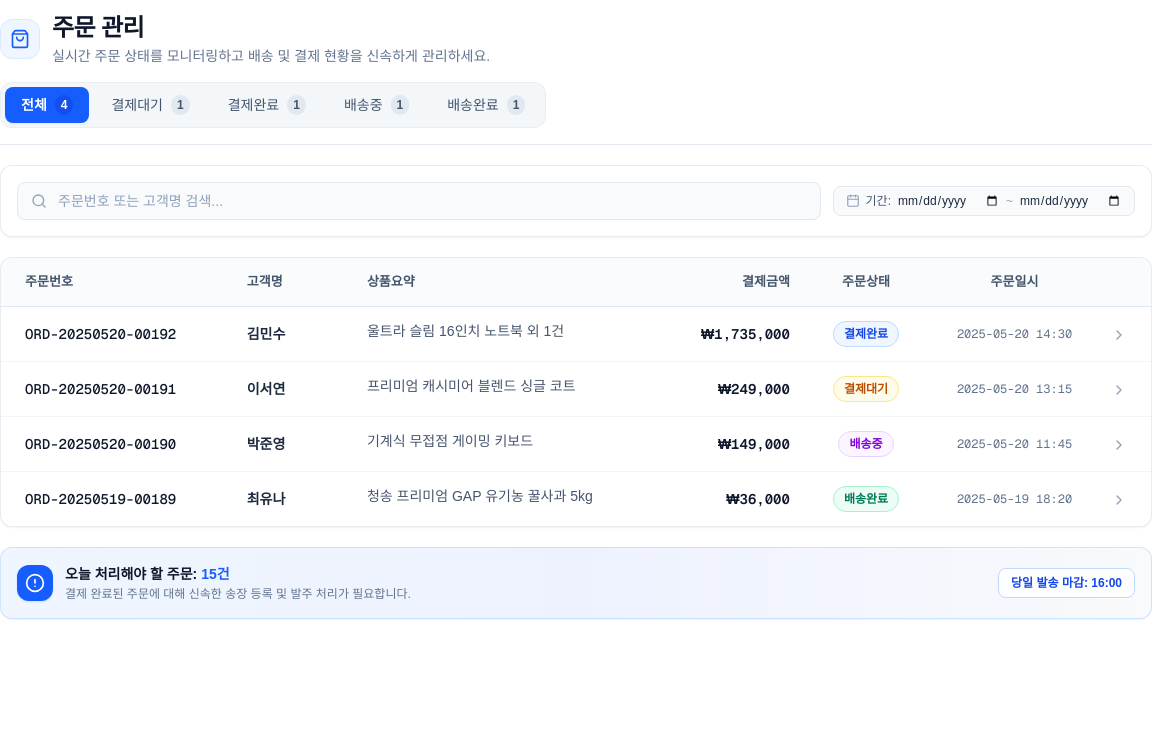
Test: OrderView Component (Integration Test) › 날짜 범위를 선택하여 해당 기간의 주문만 필터링할 수 있다
Type "2025-05-19" into the date field named "시작일" at [948, 201], box [897,193,1000,209]
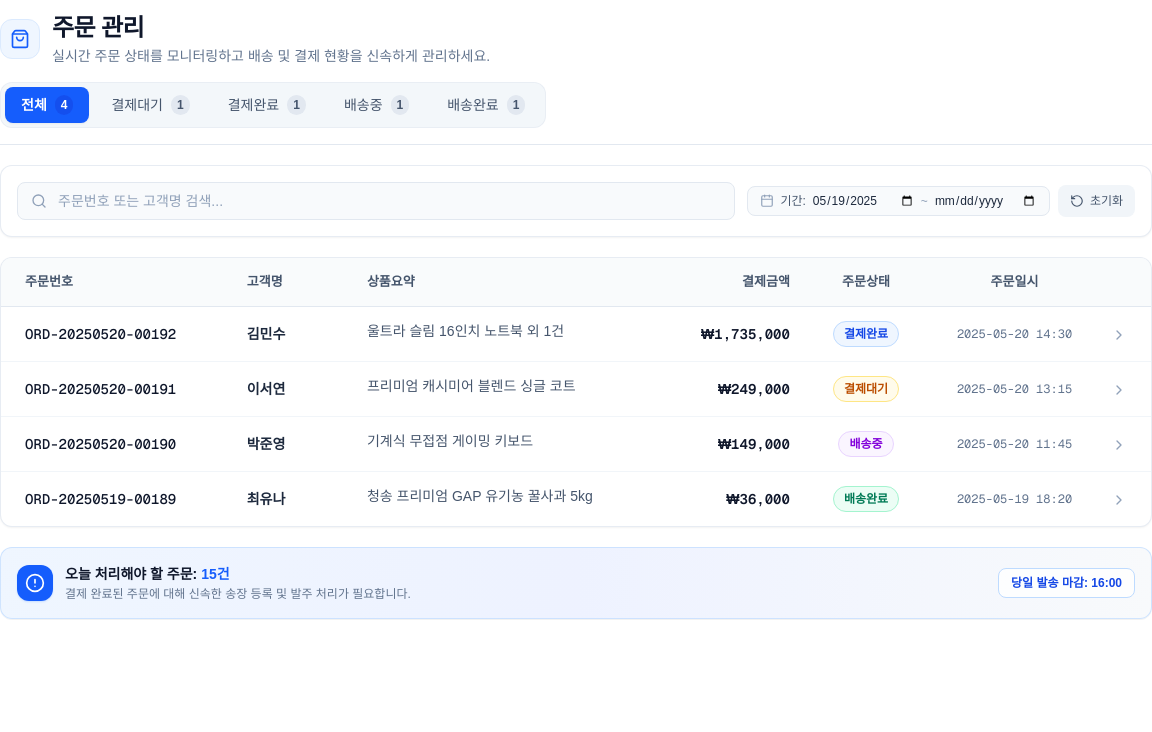
Type "2025-05-19" into the date field named "종료일" at [985, 201], box [934,193,1037,209]
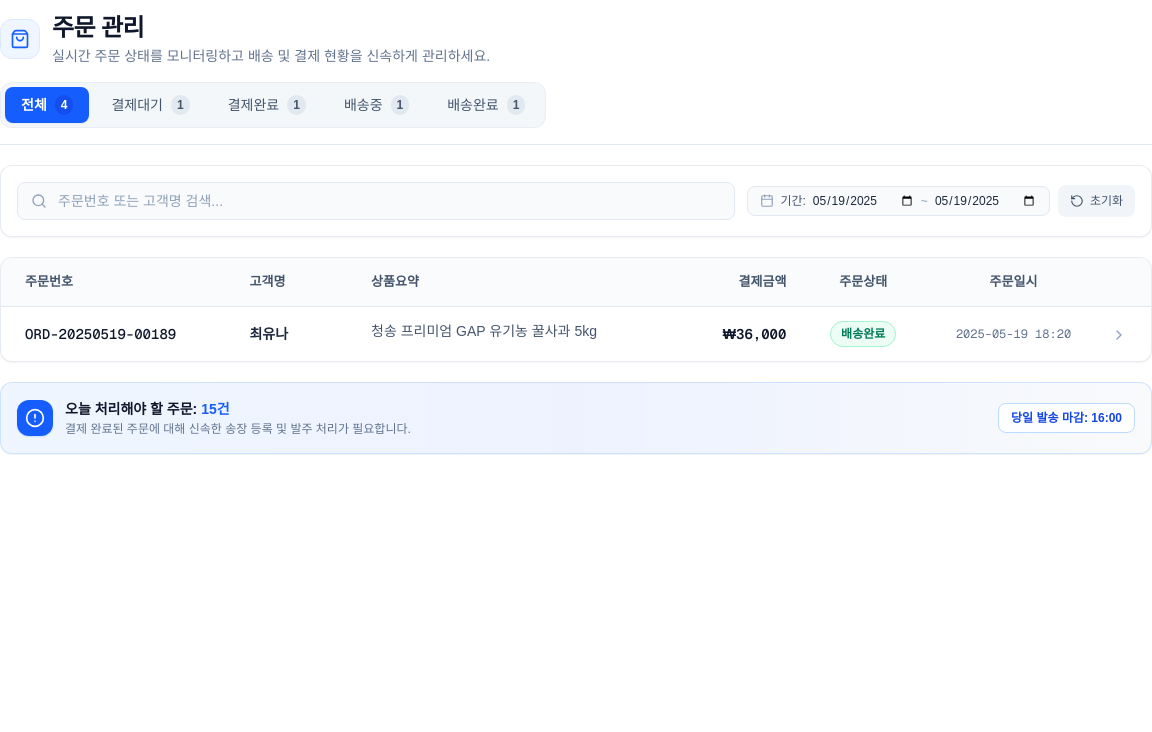
Expected: the text "최유나" is shown, [234,306,355,360]
Expected: the text "김민수" is gone
